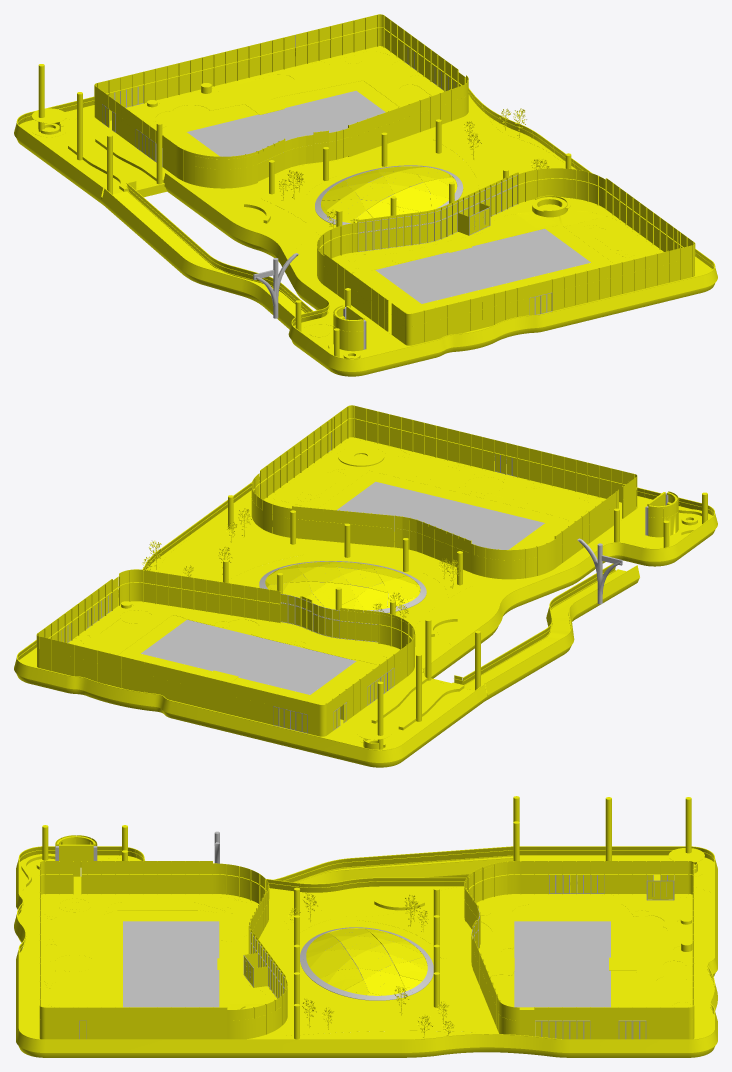
File: sm_hana_building_8f_out.glb
3 views of the same model, one above another, from view 1: azimuth 30°, elevation 25°; view 2: azimuth 150°, elevation 25°; view 3: azimuth 270°, elevation 25° (orthographic). The views are drawn at different scales.
Parts seen in each view (by area): view 1: sm_hana_building_8f_out; view 2: sm_hana_building_8f_out; view 3: sm_hana_building_8f_out.
Part boxes in pixels (x1=…): sm_hana_building_8f_out: x1=14, y1=14, x2=717, y2=376; sm_hana_building_8f_out: x1=14, y1=405, x2=717, y2=767; sm_hana_building_8f_out: x1=14, y1=796, x2=717, y2=1057.
Size of the model in its own units: 66.31 by 16.58 by 101.
Materials: 17 (14 with a texture image).
